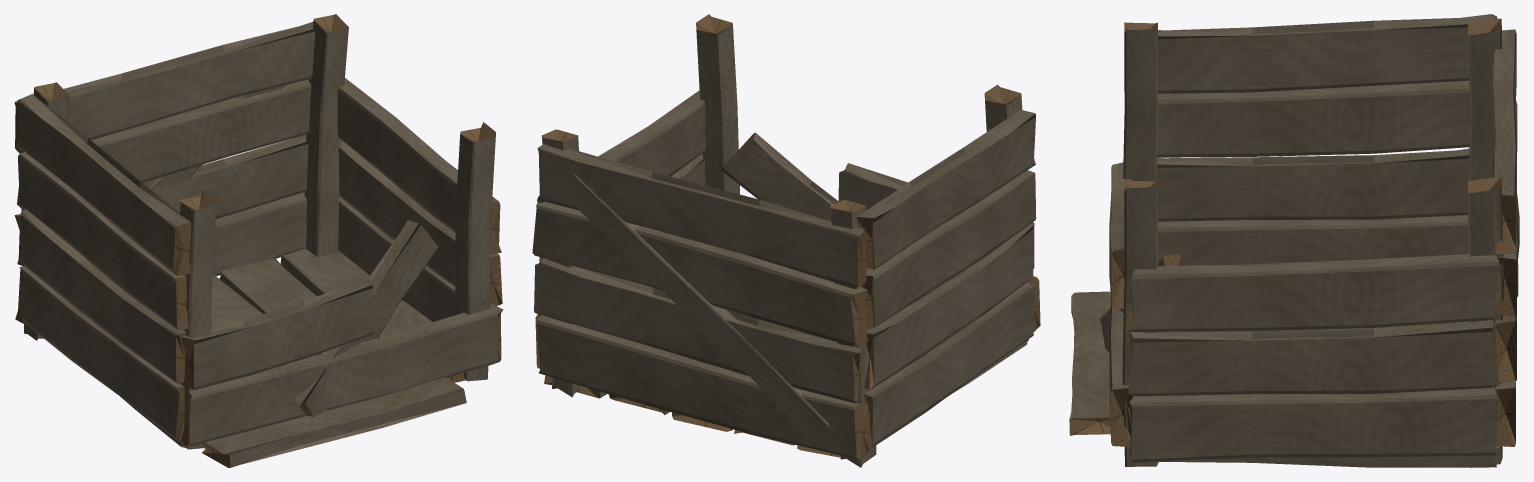
Rendered from crate_broken.fbx.
The picture shows the model from 3 angles, left to right: view 1: azimuth 30°, elevation 25°; view 2: azimuth 150°, elevation 25°; view 3: azimuth 270°, elevation 25°; orthographic projection. The views are drawn at different scales.
Visible parts, largest first — view 1: crate_broken; view 2: crate_broken; view 3: crate_broken.
Part boxes in pixels (bbox=[...]): crate_broken: bbox=[14, 14, 503, 467]; crate_broken: bbox=[532, 14, 1040, 467]; crate_broken: bbox=[1069, 14, 1519, 467].
Size of what is drawn, in the model's own units: 0.911 by 0.6713 by 0.9391.
Materials: 1 (1 with a texture image).
